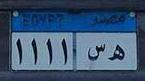1: (43, 36, 55, 66), (29, 35, 40, 67), (14, 35, 24, 64), (60, 35, 69, 65)
haa: (106, 43, 127, 63)
seen: (85, 39, 105, 65)
